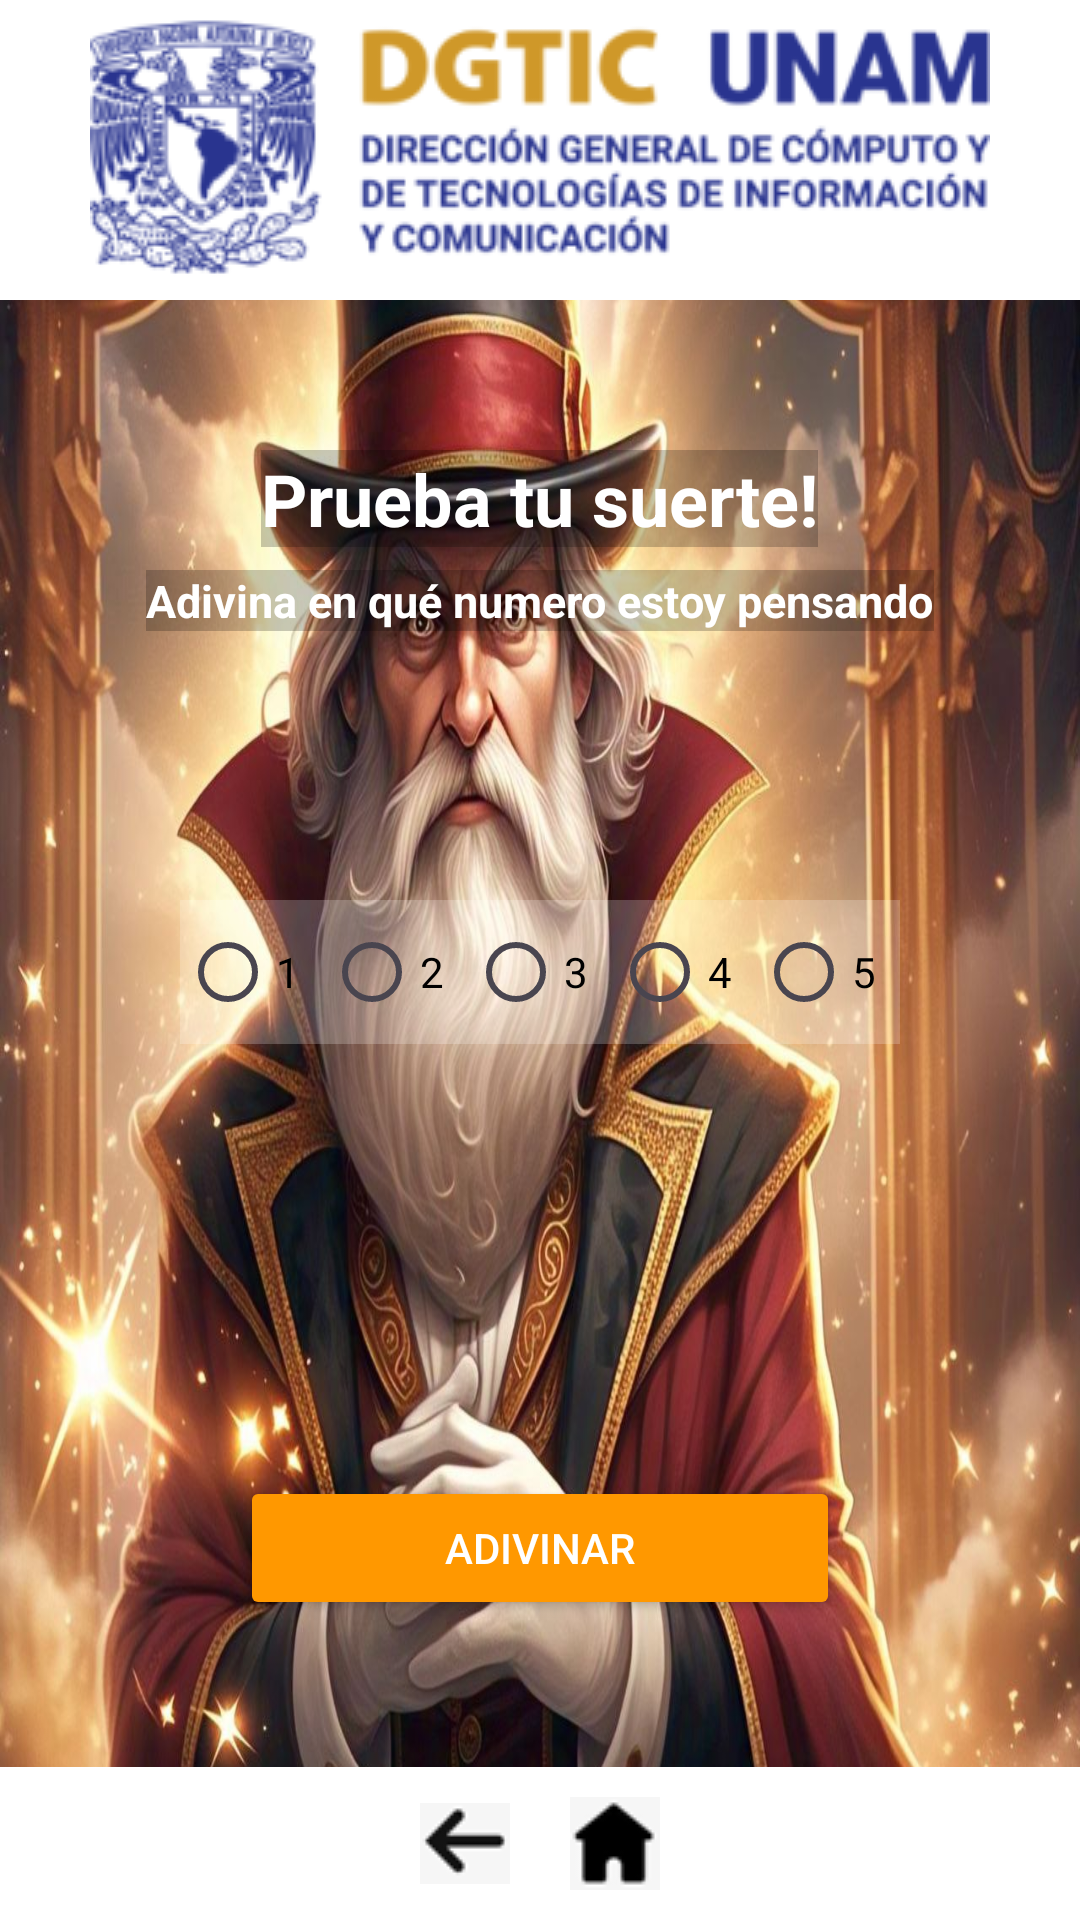

Where to tap for icons on this 1080x1920 app screen, as (x=x, y=y):
back: (x=465, y=1843)
home: (x=614, y=1843)
